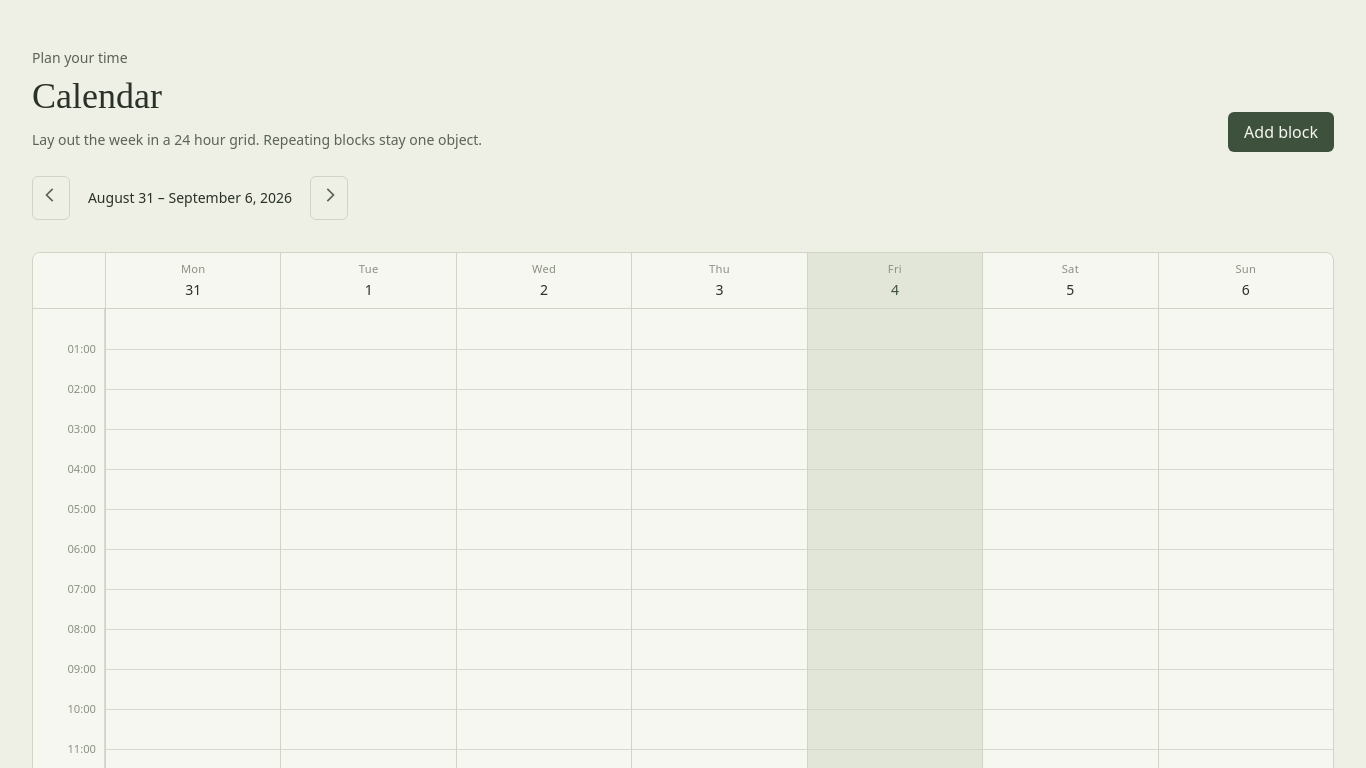
Test: CalendarPage › shows the next week without fetching again
The width and height of the screenshot is (1366, 768).
Click the button named "Next week" at x=329, y=198, box x1=310 y1=176 x2=348 y2=220
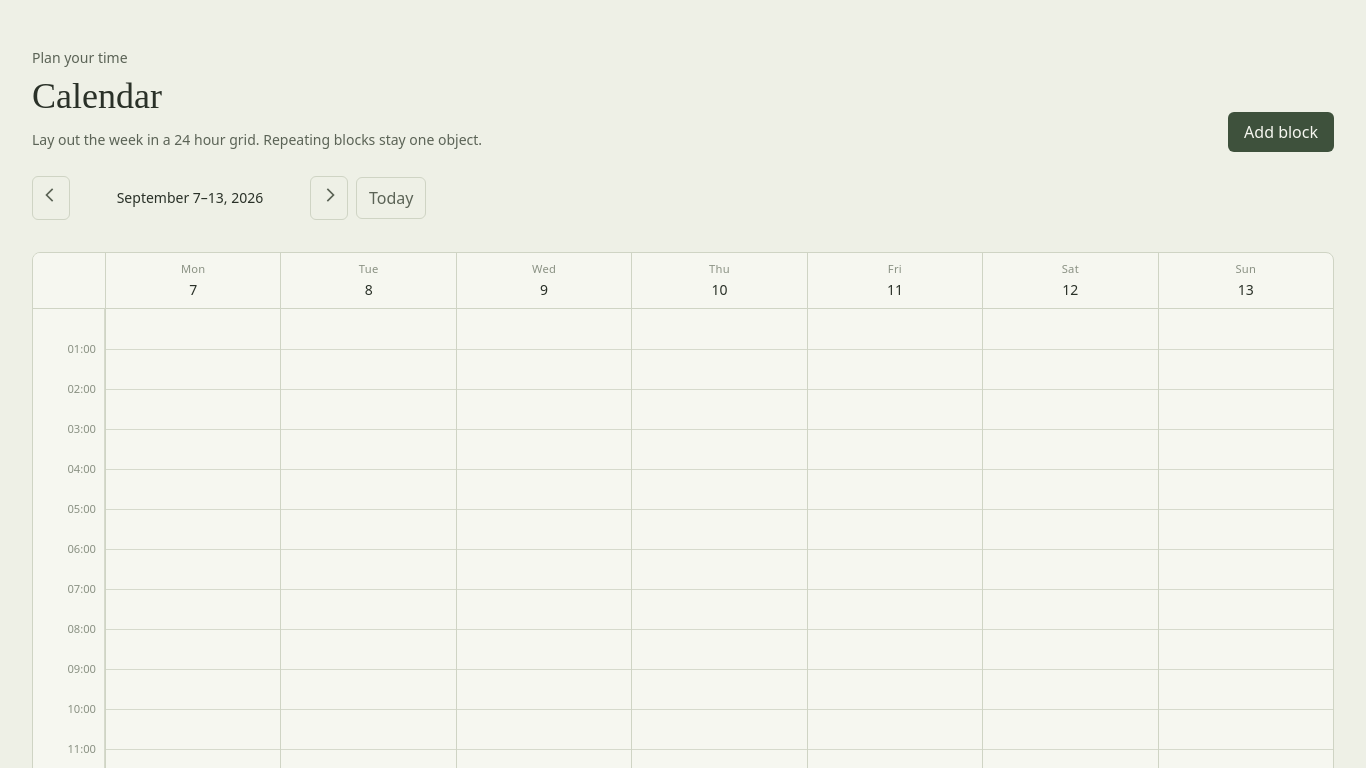
Expected: the button "Today" is shown, x1=356 y1=177 x2=426 y2=219
